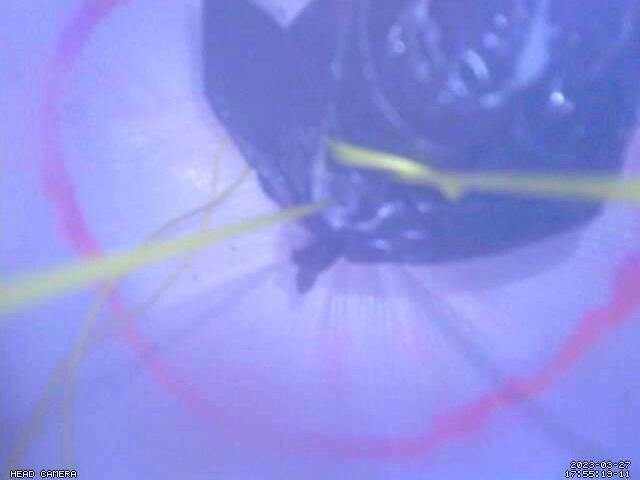head: (36, 0, 640, 460)
